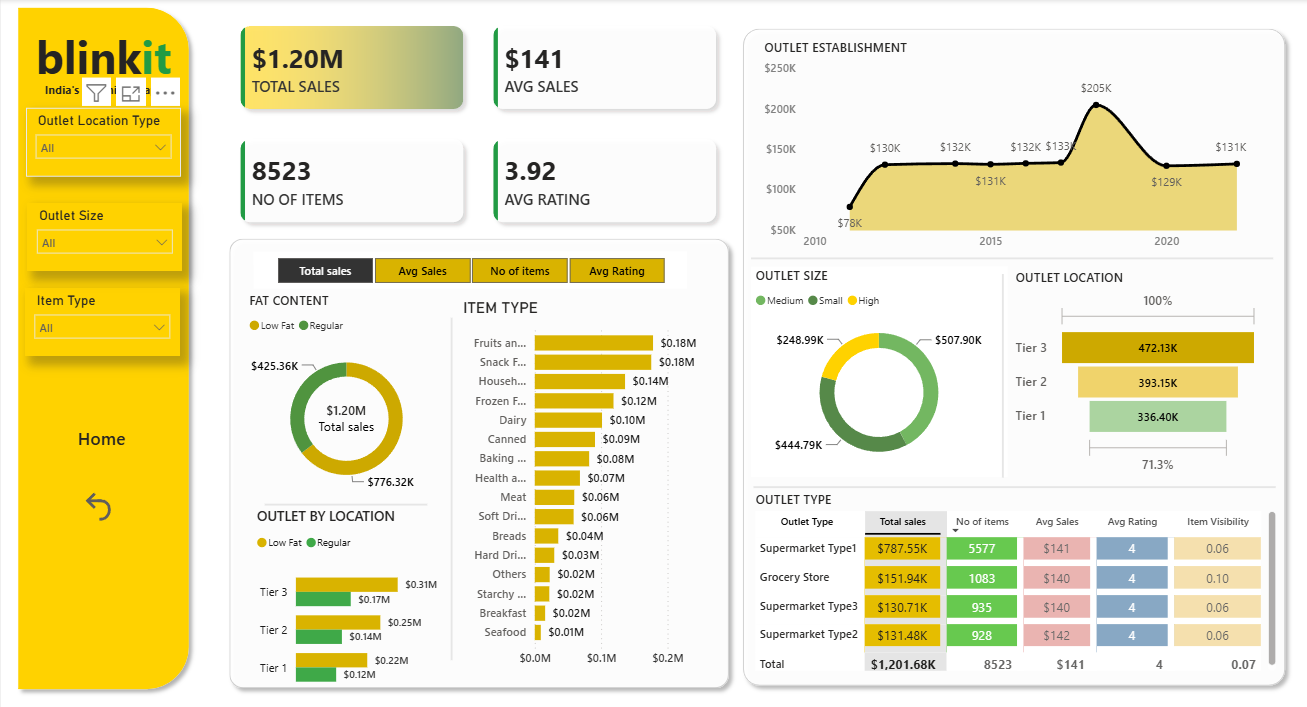

The dashboard page shown, as its layout file describes it:
{"tool":"powerbi","page":{"name":"Page 1","canvas":[1400,800],"ordinal":0},"visuals":[{"type":"shape","box":[9.4,0,201.1,749.3],"z":0},{"type":"textbox","box":[27,24,166.6,96.1],"z":1000},{"type":"textbox","box":[37.5,82.5,147.1,37.5],"z":2000},{"type":"cardVisual","fields":{"Data":["BlinkIT Grocery Data.Total sales","BlinkIT Grocery Data.Avg Sales","BlinkIT Grocery Data.No of items","BlinkIT Grocery Data.Avg Rating"]},"box":[229.2,36.2,569.7,269.4],"z":3000},{"type":"shape","box":[235.9,277.5,553.6,500],"z":4000},{"type":"donutChart","title":"FAT CONTENT","fields":{"Y":["BlinkIT Grocery Data.No of items"],"Category":["BlinkIT Grocery Data.Item Fat Content"]},"box":[261.4,344.5,218.5,227.9],"z":5000},{"type":"slicer","fields":{"Values":["Matrics.Matrics"]},"box":[270.8,305.6,465.1,40.2],"z":6000},{"type":"cardVisual","fields":{"Data":["BlinkIT Grocery Data.Total sales"]},"box":[303,439.7,135.4,88.5],"z":7000},{"type":"clusteredBarChart","title":"OUTLET BY LOCATION","fields":{"Y":["BlinkIT Grocery Data.No of items"],"Category":["BlinkIT Grocery Data.Outlet Location Type"],"Series":["BlinkIT Grocery Data.Item Fat Content"]},"box":[269.4,572.4,203.8,210.5],"z":8000},{"type":"shape","box":[282.8,544.2,174.3,28.2],"z":9000},{"type":"shape","box":[478.6,371.3,9.4,367.3],"z":10000},{"type":"barChart","title":"ITEM TYPE","fields":{"Y":["BlinkIT Grocery Data.No of items"],"Category":["BlinkIT Grocery Data.Item Type"]},"box":[490.6,349.9,277.5,386.1],"z":11000},{"type":"shape","box":[786.9,55,599.2,722.5],"z":12000},{"type":"lineChart","title":"OUTLET ESTABLISHMENT","fields":{"Category":["BlinkIT Grocery Data.Outlet Establishment Year"],"Y":["BlinkIT Grocery Data.Total sales"]},"box":[813.7,73.7,530.8,234.6],"z":13000},{"type":"shape","box":[804.3,304.3,560.3,28.2],"z":14000},{"type":"donutChart","title":"OUTLET SIZE","fields":{"Y":["BlinkIT Grocery Data.Total sales"],"Category":["BlinkIT Grocery Data.Outlet Size"]},"box":[804.3,335.1,274.8,225.2],"z":15000},{"type":"shape","box":[1069.7,336.5,9.4,218.5],"z":16000},{"type":"funnel","title":"OUTLET LOCATION","fields":{"Y":["Sum(BlinkIT Grocery Data.Sales)"],"Category":["BlinkIT Grocery Data.Outlet Location Type"]},"box":[1083.1,333.8,270.8,225.2],"z":17000},{"type":"shape","box":[807,550.9,560.3,28.2],"z":18000},{"type":"pivotTable","title":"OUTLET TYPE","fields":{"Values":["BlinkIT Grocery Data.Total sales","BlinkIT Grocery Data.No of items","BlinkIT Grocery Data.Avg Sales","BlinkIT Grocery Data.Avg Rating","Avg(BlinkIT Grocery Data.Item Visibility)"],"Rows":["BlinkIT Grocery Data.Outlet Type"]},"box":[801.6,572.4,568.4,183.6],"z":19000},{"type":"slicer","fields":{"Values":["BlinkIT Grocery Data.Outlet Location Type"]},"box":[26.8,116.6,166.2,73.7],"z":20000},{"type":"slicer","fields":{"Values":["BlinkIT Grocery Data.Outlet Size"]},"box":[28.2,218.5,166.2,73.7],"z":21000},{"type":"slicer","fields":{"Values":["BlinkIT Grocery Data.Item Type"]},"box":[25.5,309.7,166.2,73.7],"z":22000},{"type":"actionButton","title":"Home","box":[58,458.4,100.5,40.2],"z":23000},{"type":"actionButton","box":[84.5,524.1,100.5,40.2],"z":25001}]}

Visuals, with their boxes on the page's 1400x800 design canvas (x1, y1, x2, y2). These are canvas units, not pixel positions in the 1307x707 screenshot, which may show the page scaled, cropped or inside an application window:
shape: region(9, 0, 210, 749)
textbox: region(27, 24, 194, 120)
textbox: region(38, 82, 185, 120)
cardVisual - BlinkIT Grocery Data.Total sales x BlinkIT Grocery Data.Avg Sales: region(229, 36, 799, 306)
shape: region(236, 278, 790, 778)
"FAT CONTENT" donutChart: region(261, 344, 480, 572)
slicer - Matrics.Matrics: region(271, 306, 736, 346)
cardVisual - BlinkIT Grocery Data.Total sales: region(303, 440, 438, 528)
"OUTLET BY LOCATION" clusteredBarChart: region(269, 572, 473, 783)
shape: region(283, 544, 457, 572)
shape: region(479, 371, 488, 739)
"ITEM TYPE" barChart: region(491, 350, 768, 736)
shape: region(787, 55, 1386, 778)
"OUTLET ESTABLISHMENT" lineChart: region(814, 74, 1344, 308)
shape: region(804, 304, 1365, 332)
"OUTLET SIZE" donutChart: region(804, 335, 1079, 560)
shape: region(1070, 336, 1079, 555)
"OUTLET LOCATION" funnel: region(1083, 334, 1354, 559)
shape: region(807, 551, 1367, 579)
"OUTLET TYPE" pivotTable: region(802, 572, 1370, 756)
slicer - BlinkIT Grocery Data.Outlet Location Type: region(27, 117, 193, 190)
slicer - BlinkIT Grocery Data.Outlet Size: region(28, 218, 194, 292)
slicer - BlinkIT Grocery Data.Item Type: region(26, 310, 192, 383)
"Home" actionButton: region(58, 458, 158, 499)
actionButton: region(84, 524, 185, 564)
